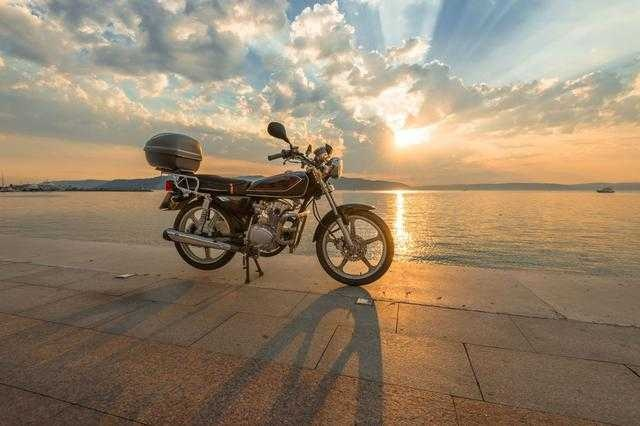motorbike: (158, 122, 394, 286)
